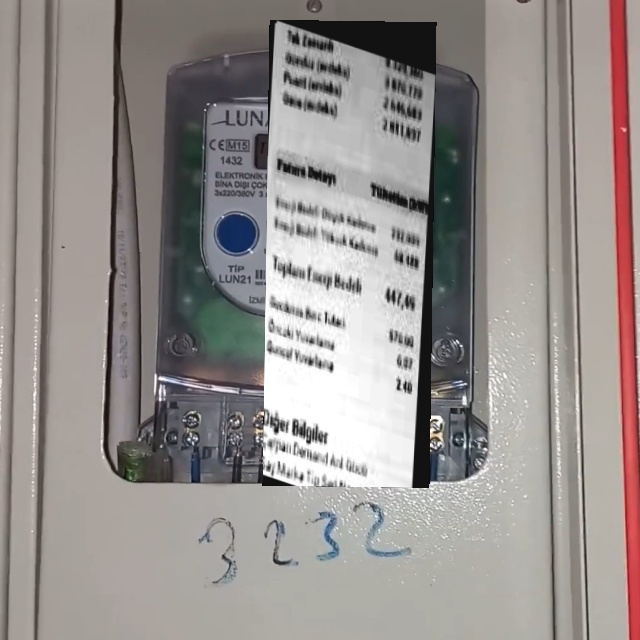electricity-bill: (261, 20, 436, 488)
